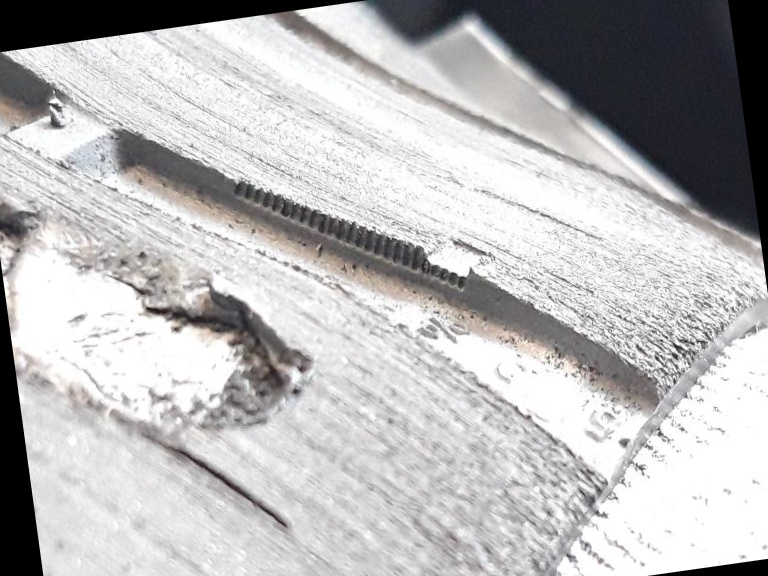temoin:0: (383, 202, 504, 312)
